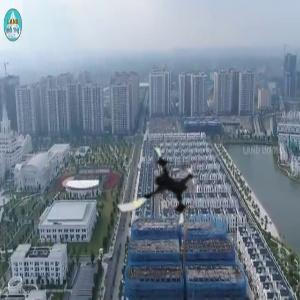drone: (112, 143, 205, 236)
